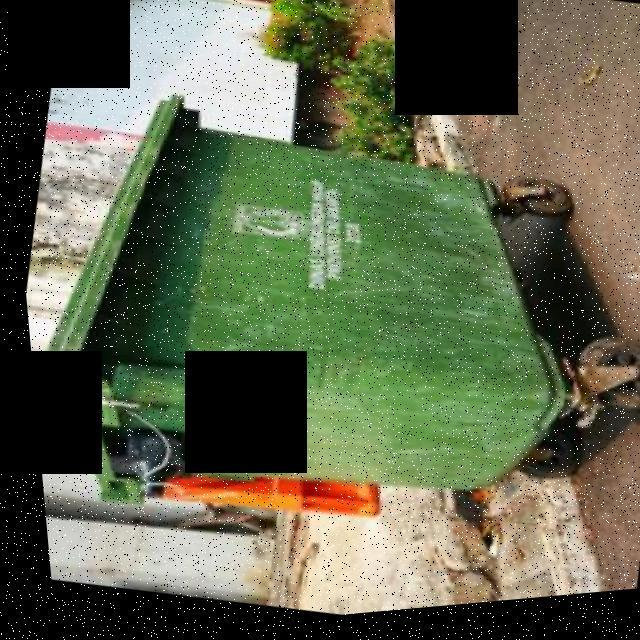bin: (5, 30, 640, 632)
